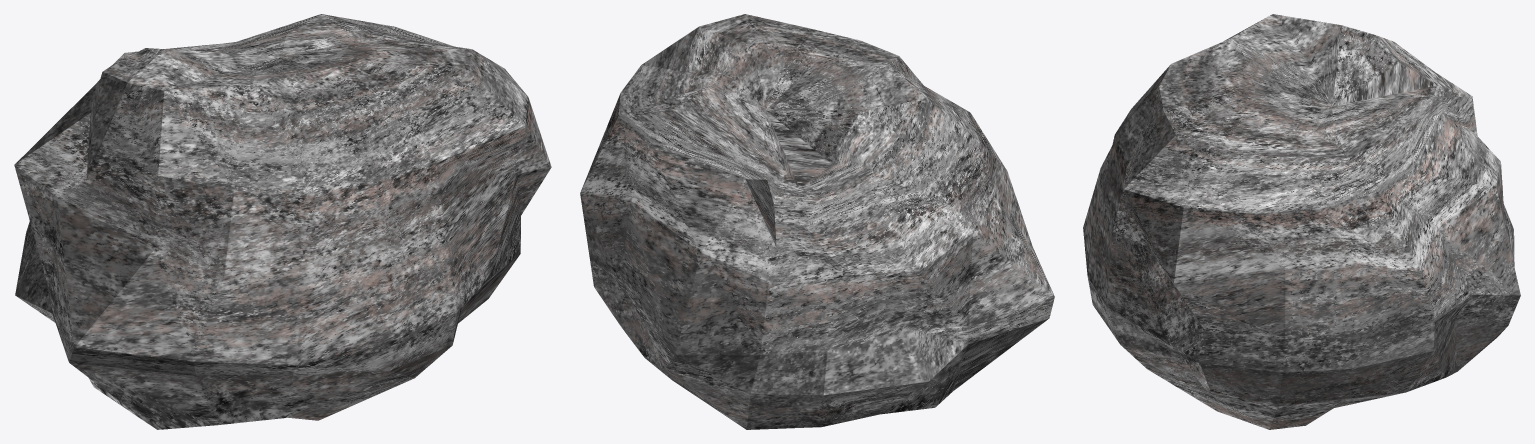
The model's file is boulder.glb.
3 renders of one model, left to right at view 1: azimuth 30°, elevation 25°; view 2: azimuth 150°, elevation 25°; view 3: azimuth 270°, elevation 25°, orthographic. The views are drawn at different scales.
Parts seen in each view (by area): view 1: Sphere_LOD0; view 2: Sphere_LOD0; view 3: Sphere_LOD0.
Part boxes in pixels (box(x1,y1,x2,y2)): Sphere_LOD0: box(14, 14, 551, 429); Sphere_LOD0: box(580, 14, 1054, 429); Sphere_LOD0: box(1083, 14, 1520, 429).
Size of what is drawn, in the model's own units: 2.63 by 1.9 by 2.31.
1 material, 1 textured.
